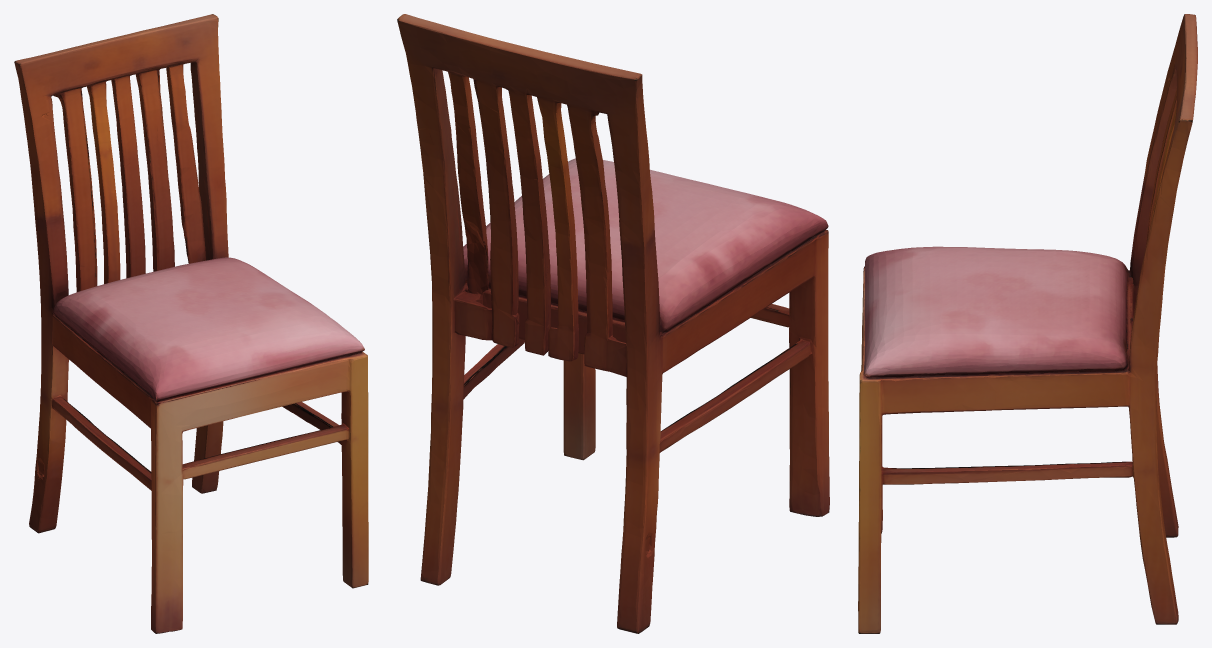
3 renders of one model, left to right at view 1: azimuth 30°, elevation 25°; view 2: azimuth 150°, elevation 25°; view 3: azimuth 270°, elevation 25°, orthographic. The views are drawn at different scales.
Parts seen in each view (by area): view 1: world; view 2: world; view 3: world.
Boxes of the visible parts, x1,y1,x2,y2 form: world: (14,14,368,633); world: (397,14,829,633); world: (858,14,1197,633).
Bounding box in the file's own units: 0.4777 × 1 × 0.6019.
1 material, 1 textured.
